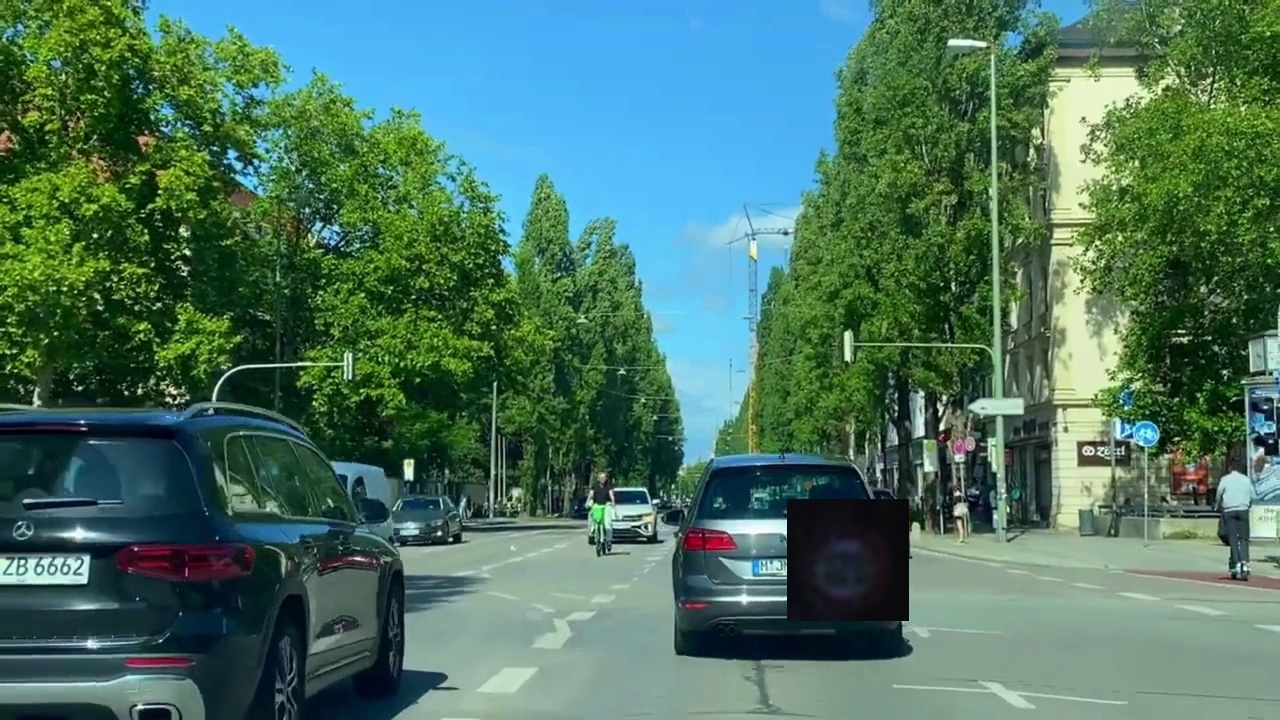Speed 120: (787, 499, 909, 621)
